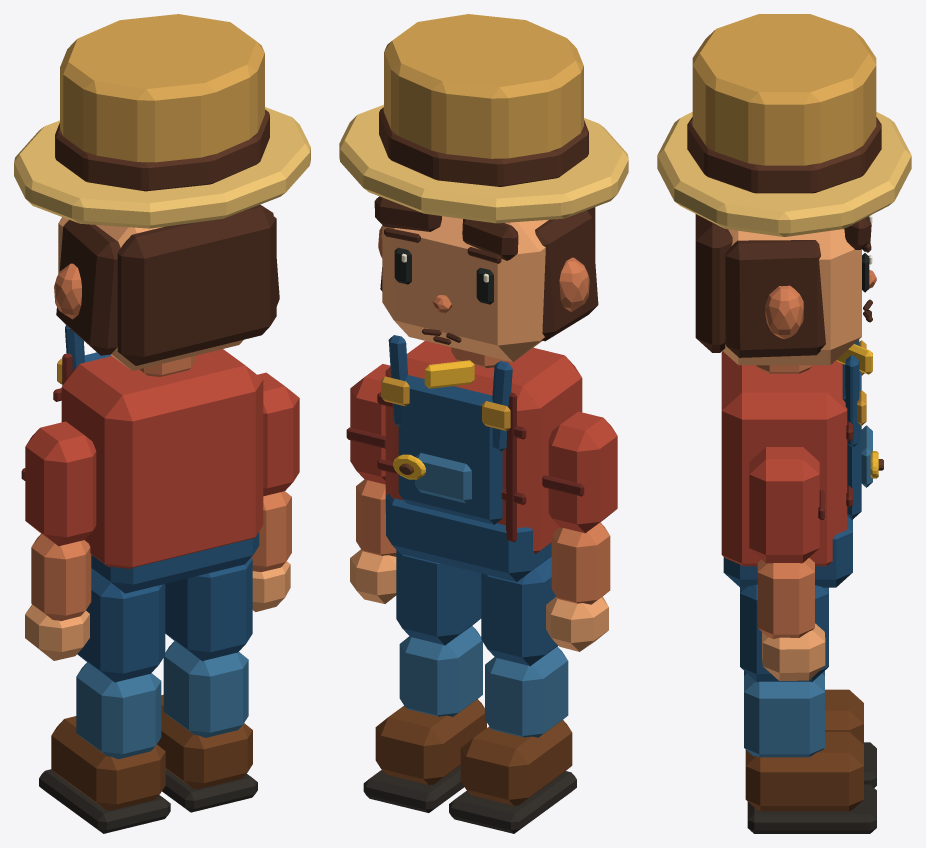
The model's file is FarmerAvatar.glb.
3 renders of one model, left to right at view 1: azimuth 30°, elevation 25°; view 2: azimuth 150°, elevation 25°; view 3: azimuth 270°, elevation 25°, orthographic. The views are drawn at different scales.
Visible parts, largest first — view 1: FarmerAvatar_Torso, FarmerAvatar_HatCrown, FarmerAvatar_HairBack, FarmerAvatar_HatBrim, FarmerAvatar_UpperArm_L, FarmerAvatar_OverallLeg_L, FarmerAvatar_OverallLeg_R, FarmerAvatar_LowerLeg_L, FarmerAvatar_LowerLeg_R, FarmerAvatar_HatBand, FarmerAvatar_Boot_L, FarmerAvatar_HairSide_L (+13 smaller); view 2: FarmerAvatar_HatCrown, FarmerAvatar_Head, FarmerAvatar_HatBrim, FarmerAvatar_Torso, FarmerAvatar_OverallBib, FarmerAvatar_OverallWaist, FarmerAvatar_UpperArm_L, FarmerAvatar_Boot_L, FarmerAvatar_Boot_R, FarmerAvatar_OverallLeg_R, FarmerAvatar_LowerLeg_L, FarmerAvatar_LowerLeg_R (+24 smaller); view 3: FarmerAvatar_HatCrown, FarmerAvatar_Torso, FarmerAvatar_HatBrim, FarmerAvatar_HairSide_R, FarmerAvatar_UpperArm_R, FarmerAvatar_Boot_R, FarmerAvatar_Head, FarmerAvatar_LowerLeg_R, FarmerAvatar_HatBand, FarmerAvatar_Forearm_R, FarmerAvatar_HairBack, FarmerAvatar_BootSole_R (+11 smaller).
Part boxes in pixels (bbox=[...]): FarmerAvatar_Torso: bbox=[61, 349, 263, 568]; FarmerAvatar_HatCrown: bbox=[60, 14, 264, 162]; FarmerAvatar_HairBack: bbox=[117, 205, 276, 365]; FarmerAvatar_HatBrim: bbox=[14, 107, 310, 228]; FarmerAvatar_UpperArm_L: bbox=[25, 421, 96, 546]; FarmerAvatar_OverallLeg_L: bbox=[77, 569, 165, 682]; FarmerAvatar_OverallLeg_R: bbox=[165, 558, 252, 661]; FarmerAvatar_LowerLeg_L: bbox=[76, 662, 161, 759]; FarmerAvatar_LowerLeg_R: bbox=[163, 641, 248, 737]; FarmerAvatar_HatBand: bbox=[55, 109, 269, 191]; FarmerAvatar_Boot_L: bbox=[51, 716, 165, 810]; FarmerAvatar_HairSide_L: bbox=[56, 220, 120, 355]; FarmerAvatar_HatCrown: bbox=[384, 14, 583, 158]; FarmerAvatar_Head: bbox=[382, 216, 548, 362]; FarmerAvatar_HatBrim: bbox=[339, 104, 628, 223]; FarmerAvatar_Torso: bbox=[385, 341, 582, 553]; FarmerAvatar_OverallBib: bbox=[398, 375, 502, 524]; FarmerAvatar_OverallWaist: bbox=[386, 493, 551, 581]; FarmerAvatar_UpperArm_L: bbox=[548, 411, 617, 533]; FarmerAvatar_Boot_L: bbox=[460, 720, 572, 805]; FarmerAvatar_Boot_R: bbox=[375, 699, 486, 784]; FarmerAvatar_OverallLeg_R: bbox=[396, 550, 481, 645]; FarmerAvatar_LowerLeg_L: bbox=[485, 646, 568, 737]; FarmerAvatar_LowerLeg_R: bbox=[399, 626, 482, 716]; FarmerAvatar_HatCrown: bbox=[692, 14, 876, 165]; FarmerAvatar_Torso: bbox=[721, 351, 847, 566]; FarmerAvatar_HatBrim: bbox=[657, 112, 911, 236]; FarmerAvatar_HairSide_R: bbox=[725, 240, 825, 357]; FarmerAvatar_UpperArm_R: bbox=[749, 447, 819, 563]; FarmerAvatar_Boot_R: bbox=[745, 731, 863, 811]; FarmerAvatar_Head: bbox=[722, 229, 861, 365]; FarmerAvatar_LowerLeg_R: bbox=[744, 673, 824, 757]; FarmerAvatar_HatBand: bbox=[687, 117, 881, 193]; FarmerAvatar_Forearm_R: bbox=[757, 558, 814, 638]; FarmerAvatar_HairBack: bbox=[695, 214, 732, 352]; FarmerAvatar_BootSole_R: bbox=[747, 784, 876, 833].
Bounding box in the file's own units: 0.8288 × 2.22 × 0.6888.
